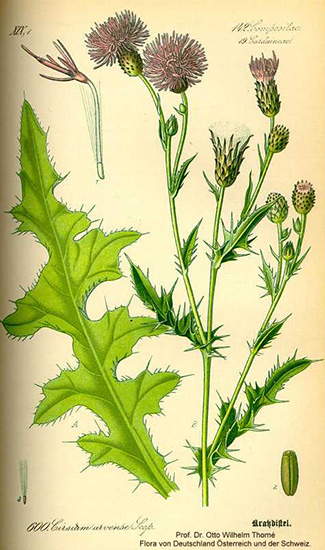thistle: (144, 33, 208, 96), (88, 19, 148, 77), (240, 52, 289, 116)
